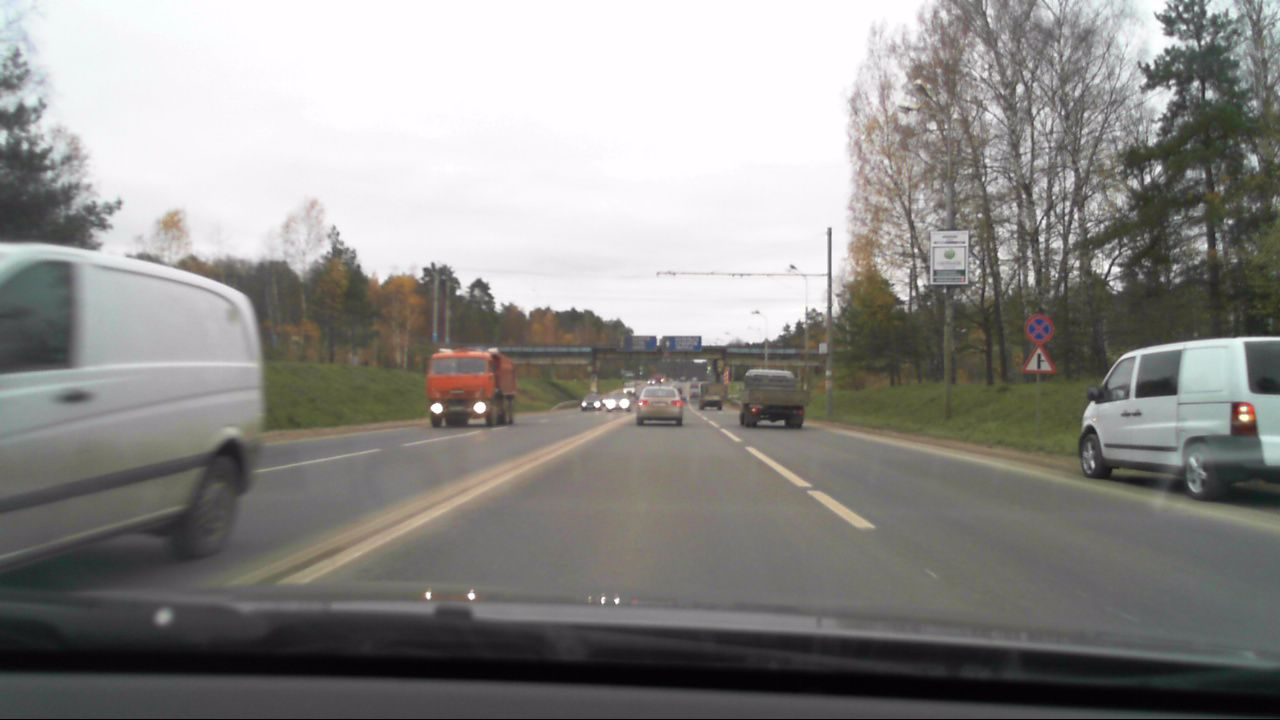No Parking: (1024, 312, 1057, 344)
